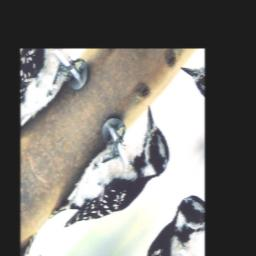Woodpecker: (43, 94, 180, 256)
